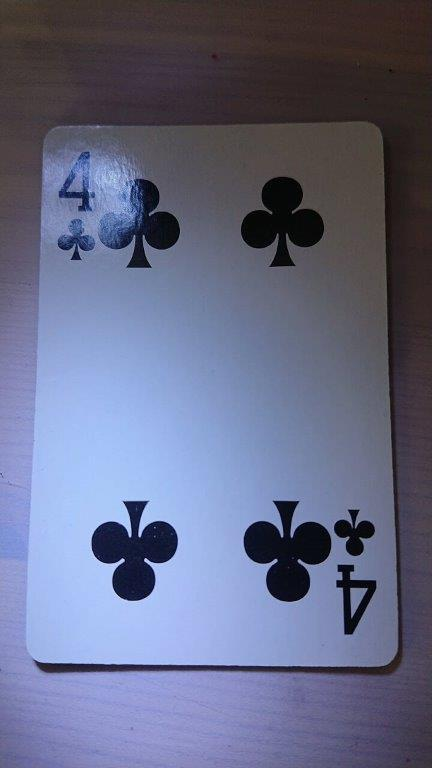4C: (22, 118, 401, 669)
